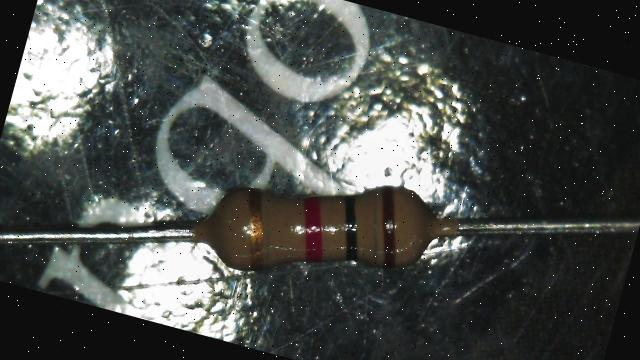black: (328, 192, 372, 262)
brown: (363, 185, 414, 270)
gold: (229, 188, 279, 270)
red: (290, 193, 335, 263)
resistor: (190, 165, 457, 287)
